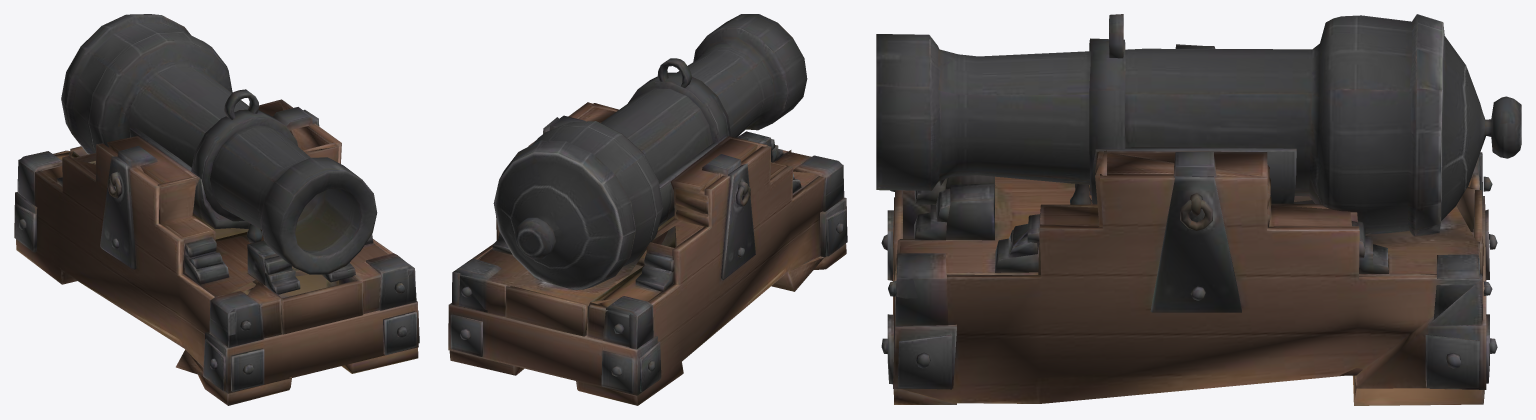
File: wall-gun.glb
3 renders of one model, left to right at view 1: azimuth 30°, elevation 25°; view 2: azimuth 150°, elevation 25°; view 3: azimuth 270°, elevation 25°, orthographic. The views are drawn at different scales.
Visible parts, largest first — view 1: mesh_node; view 2: mesh_node; view 3: mesh_node.
Boxes of the visible parts, box(x1,y1,x2,y2) form: mesh_node: box(14, 14, 419, 405); mesh_node: box(448, 14, 847, 405); mesh_node: box(876, 14, 1521, 405).
Bounding box in the file's own units: 1.45 × 1.55 × 2.8.
1 material, 1 textured.
